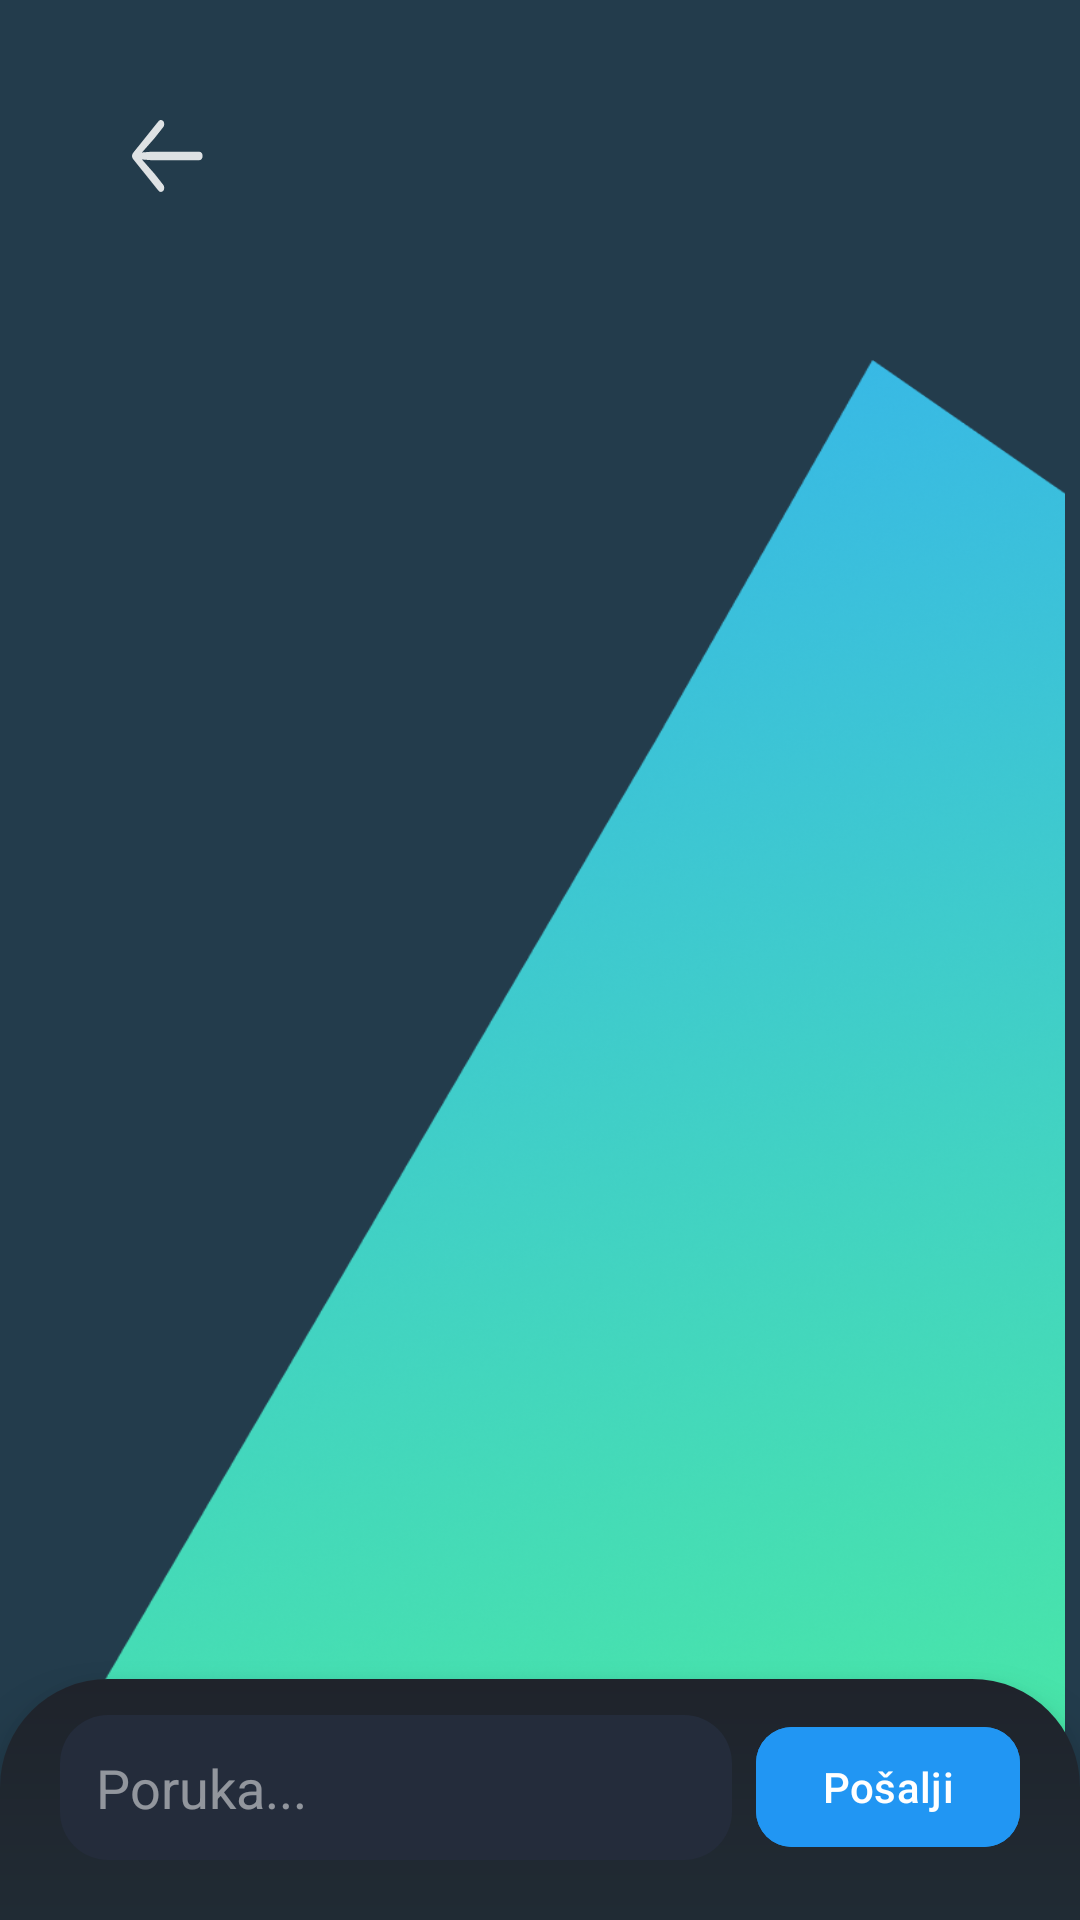

Where to tap for icons on this 1080x1920 app screen, as (x=x, y=y):
Nazad: (x=167, y=156)
